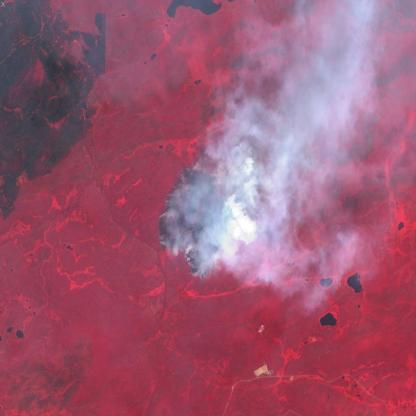fire: (156, 158, 251, 280)
